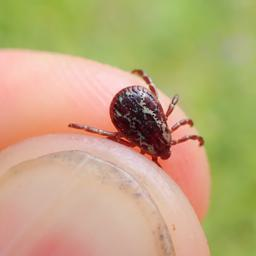Dermacentor variabilis: (67, 67, 206, 174)
